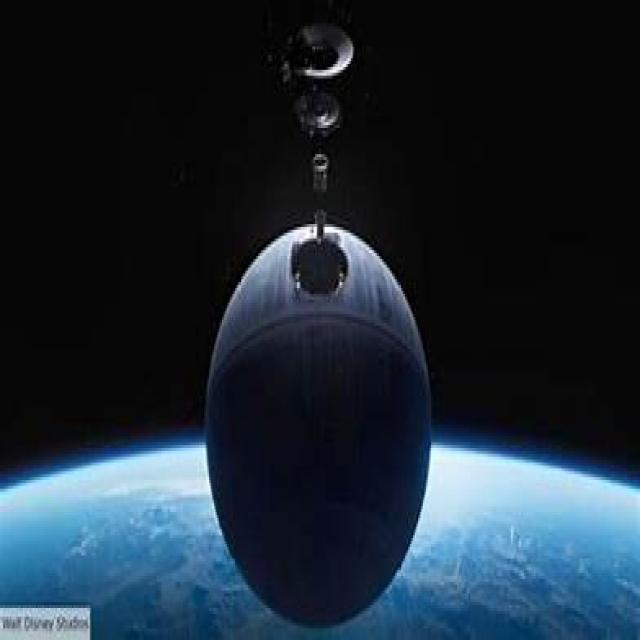deathStar: (200, 203, 438, 625)
